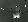person: (13, 9, 21, 18)
